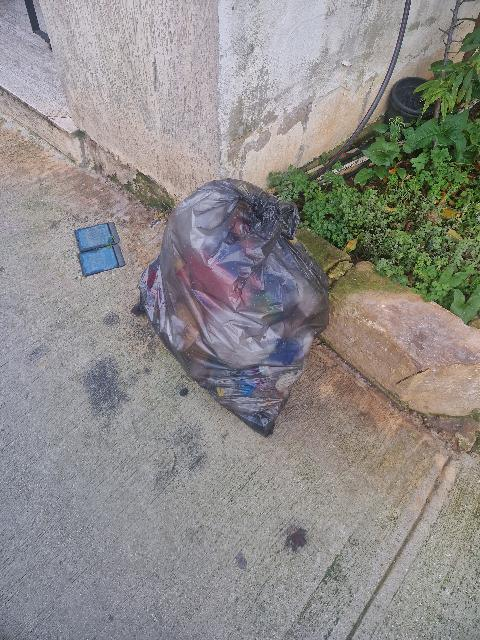Recyclable -Grey-: (140, 179, 329, 434)
